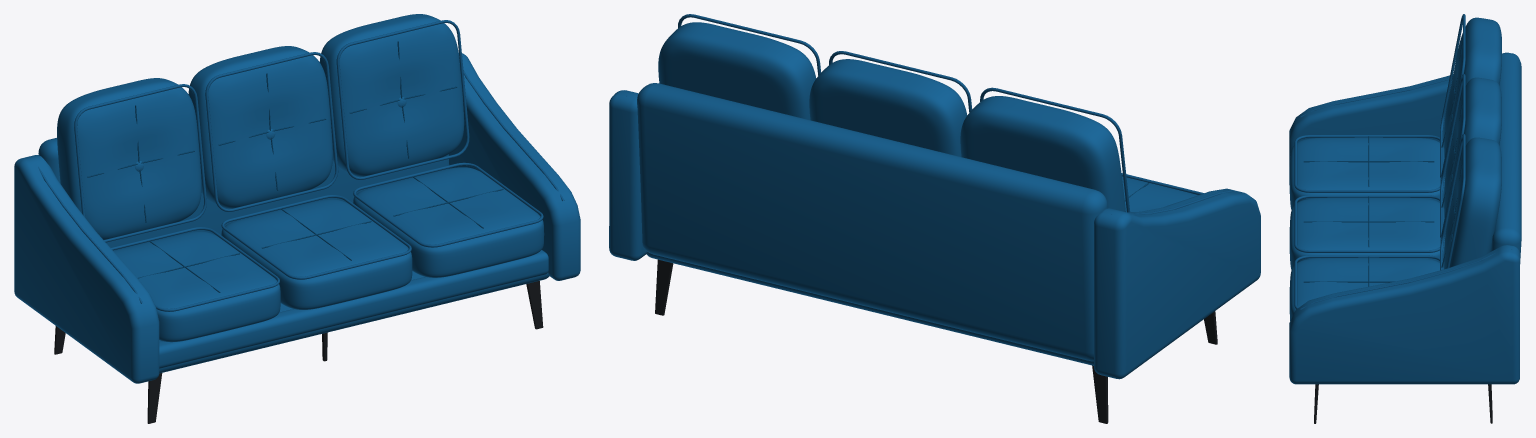
File: butterfly-1880-lod0.glb
3 renders of one model, left to right at view 1: azimuth 30°, elevation 25°; view 2: azimuth 150°, elevation 25°; view 3: azimuth 270°, elevation 25°, orthographic. The views are drawn at different scales.
Parts seen in each view (by area): view 1: back_cushion_01, back_cushion_02, back_cushion_03, arm_left, frame, seat_cushion_02, seat_cushion_03, seat_cushion_01, arm_right, leg_front_right; view 2: frame, arm_left, back_cushion_01, back_cushion_03, back_cushion_02, arm_right, seat_cushion_01, leg_rear_right, leg_rear_left; view 3: arm_right, seat_cushion_02, seat_cushion_01, arm_left, back_cushion_03, seat_cushion_03, frame, back_cushion_01, back_cushion_02.
Boxes of the visible parts, box(x1,y1,x2,y2) form: back_cushion_01: box(57, 78, 206, 242); back_cushion_02: box(188, 46, 338, 211); back_cushion_03: box(319, 14, 469, 179); arm_left: box(14, 155, 159, 383); frame: box(38, 138, 549, 373); seat_cushion_02: box(221, 195, 412, 309); seat_cushion_03: box(353, 162, 544, 277); seat_cushion_01: box(111, 227, 280, 342); arm_right: box(449, 52, 580, 280); leg_front_right: box(526, 281, 543, 329); frame: box(637, 83, 1107, 365); arm_left: box(1094, 188, 1260, 379); back_cushion_01: box(960, 87, 1130, 212); back_cushion_03: box(658, 14, 821, 119); back_cushion_02: box(809, 51, 972, 156); arm_right: box(609, 90, 647, 260); seat_cushion_01: box(1121, 173, 1203, 212); leg_rear_right: box(655, 259, 673, 315); leg_rear_left: box(1092, 365, 1108, 423); arm_right: box(1289, 245, 1519, 384); seat_cushion_02: box(1289, 195, 1446, 269); seat_cushion_01: box(1289, 135, 1446, 209); arm_left: box(1289, 52, 1519, 184); back_cushion_03: box(1440, 134, 1501, 270); seat_cushion_03: box(1289, 255, 1443, 320); frame: box(1491, 53, 1521, 263); back_cushion_01: box(1440, 14, 1501, 178); back_cushion_02: box(1440, 74, 1501, 238).
Size of the model in its own units: 1.88 by 1.02 by 0.9.
